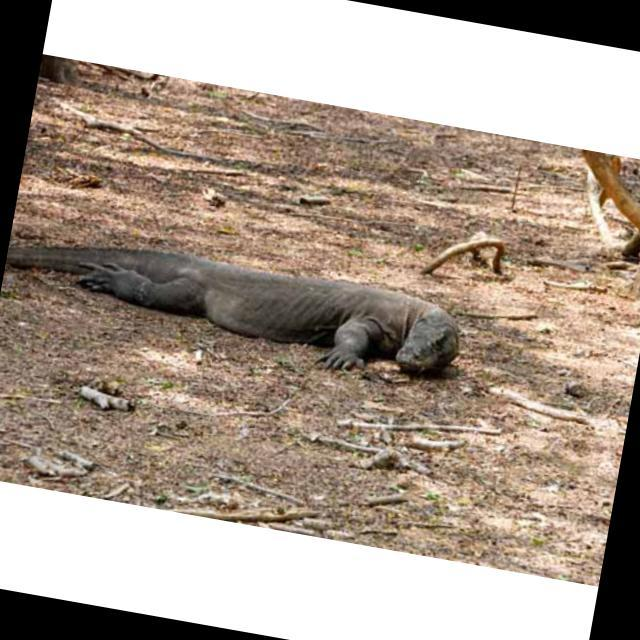KomodoDragon: (4, 225, 467, 392)
